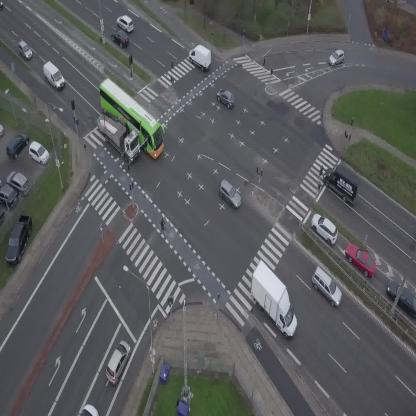bicycle: (157, 218, 168, 236)
bus: (86, 76, 175, 161)
car: (305, 265, 348, 308), (340, 238, 382, 281), (101, 339, 135, 386), (306, 210, 343, 247), (214, 178, 246, 210), (213, 85, 239, 110), (108, 27, 132, 52), (114, 12, 138, 35), (14, 39, 35, 62), (326, 48, 347, 67), (78, 404, 98, 416)
lorry: (237, 258, 313, 342), (87, 103, 150, 164), (317, 160, 368, 207), (185, 40, 217, 73), (38, 60, 69, 90)
